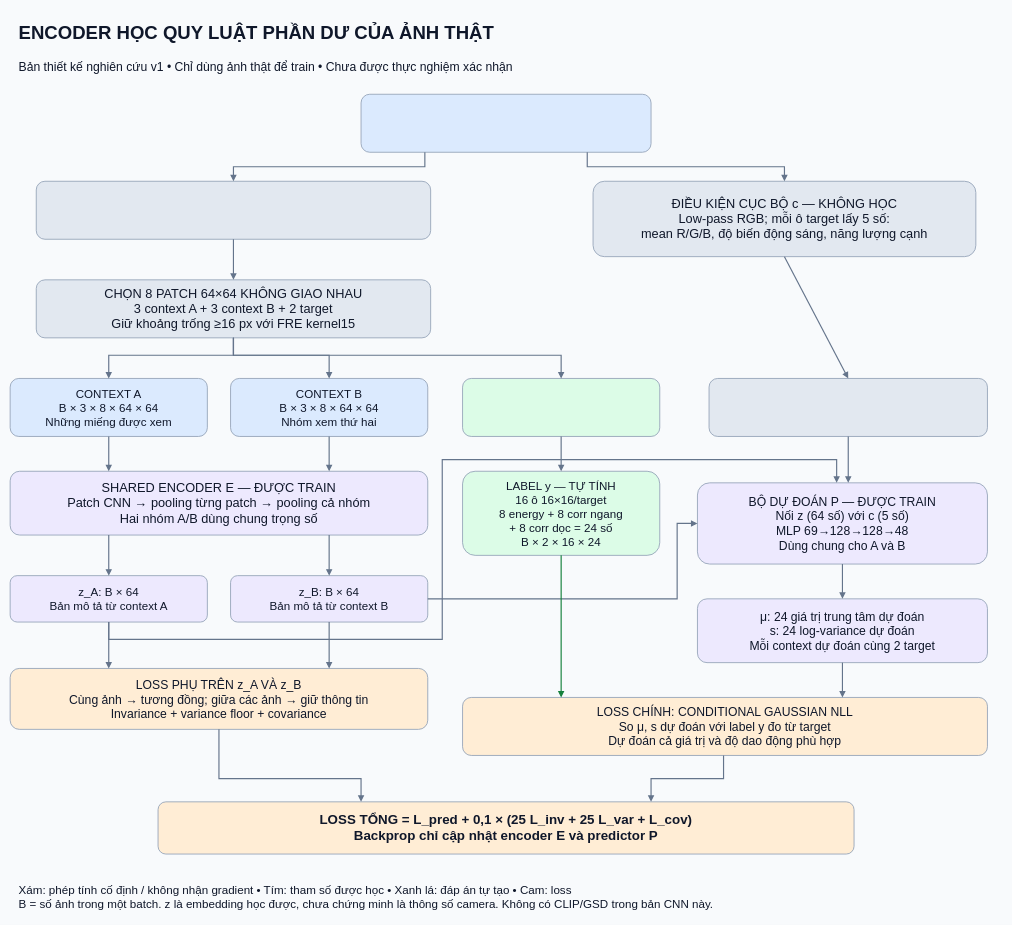
Image size: 1012x925. Some labels were removed from this diagram. Here are the shapes that lost their labels. From the top down, the centre of each, then its label:
At [505,123]: "Ảnh thật RGB B × 3 × 256 × 256".
At [233,210]: "BỘ LỌC PHẦN DƯ R — FROZEN Grayscale → FRE 1→8 channels Output: B × 8 × 256 × 256".
At [561,407]: "TARGET RESIDUAL B × 2 × 8 × 64 × 64 Không vào encoder".
At [848,407]: "c: B × 2 × 16 × 5 2 target; 16 ô/target Chỉ đặc điểm ảnh thô".
